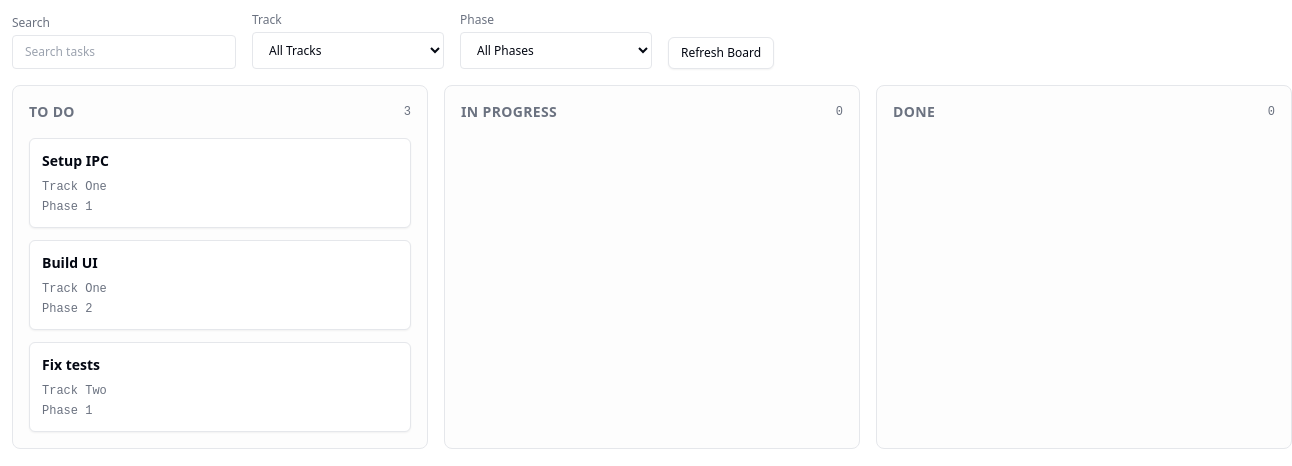
Test: BoardPanel › filters tasks by phase selection
Select "Track One" in the dropdown labelled "Track" at (348, 50), box [252,32,444,69]
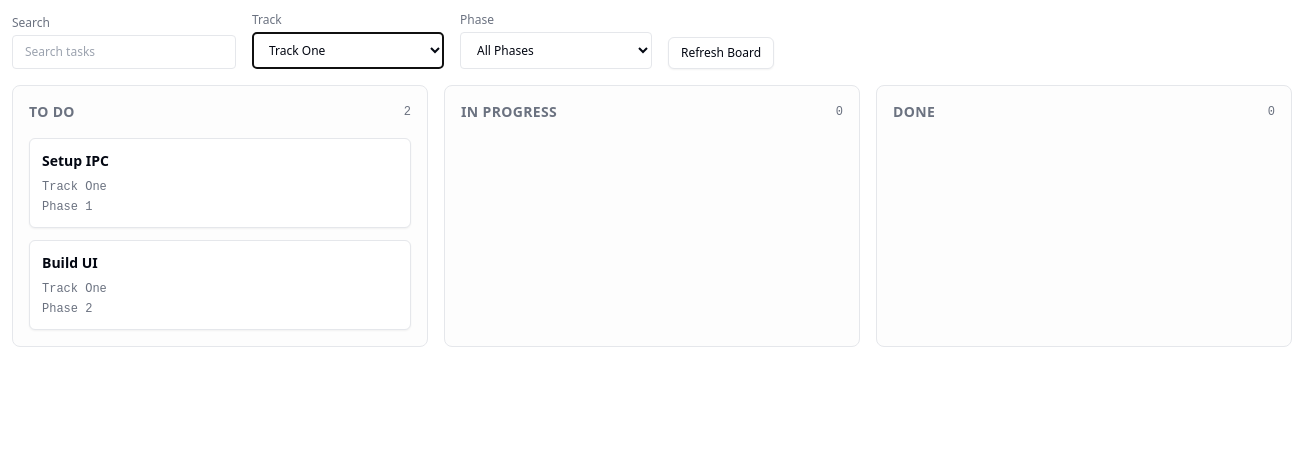
Select "Phase 2" in the dropdown labelled "Phase" at (556, 50), box [460,32,652,69]
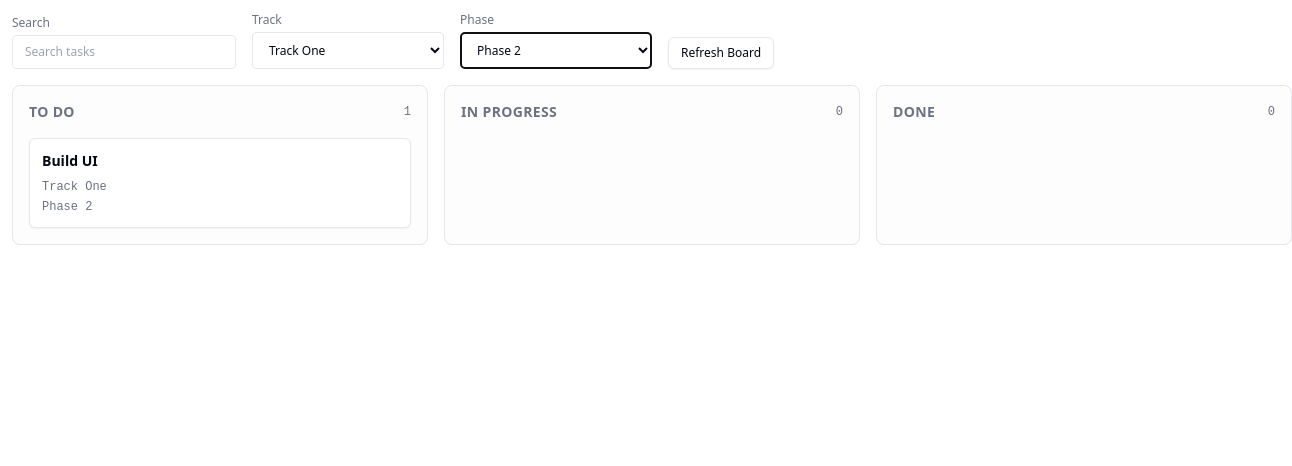
Check: the heading "Build UI" is shown, box [42,151,98,170]
Check: the heading "Setup IPC" is gone
